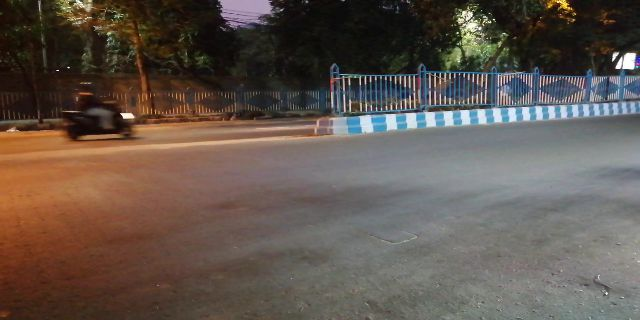Motorbike: (56, 82, 147, 142)
